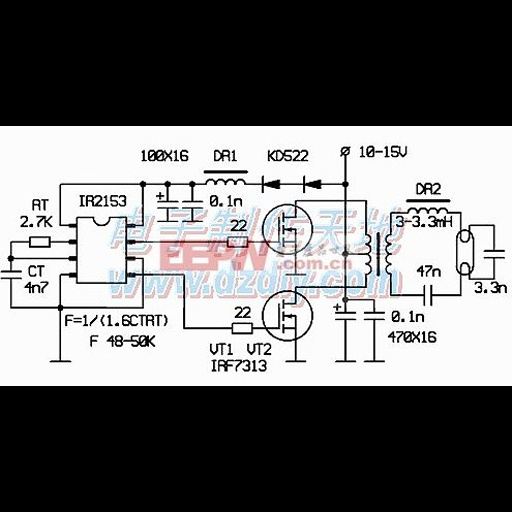capacitor: (415, 280, 439, 310), (482, 244, 508, 264), (362, 305, 387, 324), (1, 263, 22, 284), (181, 195, 205, 213)
firstdiode: (299, 172, 325, 195), (259, 172, 284, 195)
firstpolarcapacitor: (326, 302, 357, 326), (152, 191, 179, 212)
firstresistance: (221, 234, 253, 251), (224, 320, 256, 336), (26, 232, 53, 250)
inductor: (403, 203, 452, 217)
mos: (272, 207, 300, 249), (274, 295, 300, 337)
transformer: (361, 229, 396, 282)
